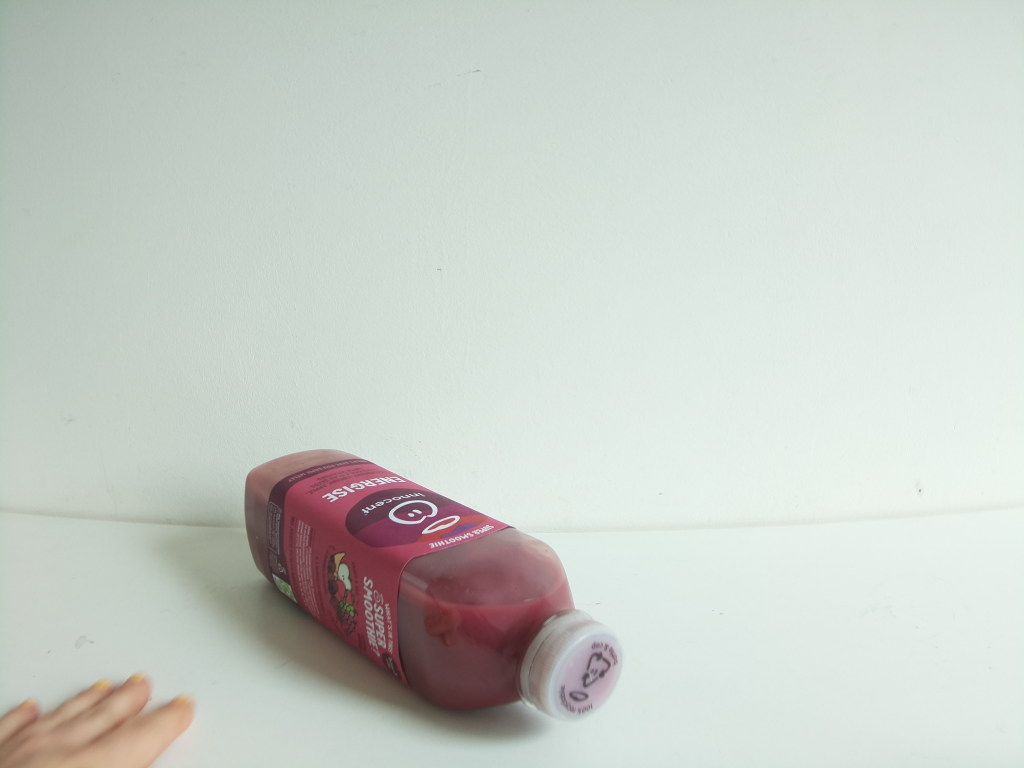juice: (242, 447, 626, 731)
